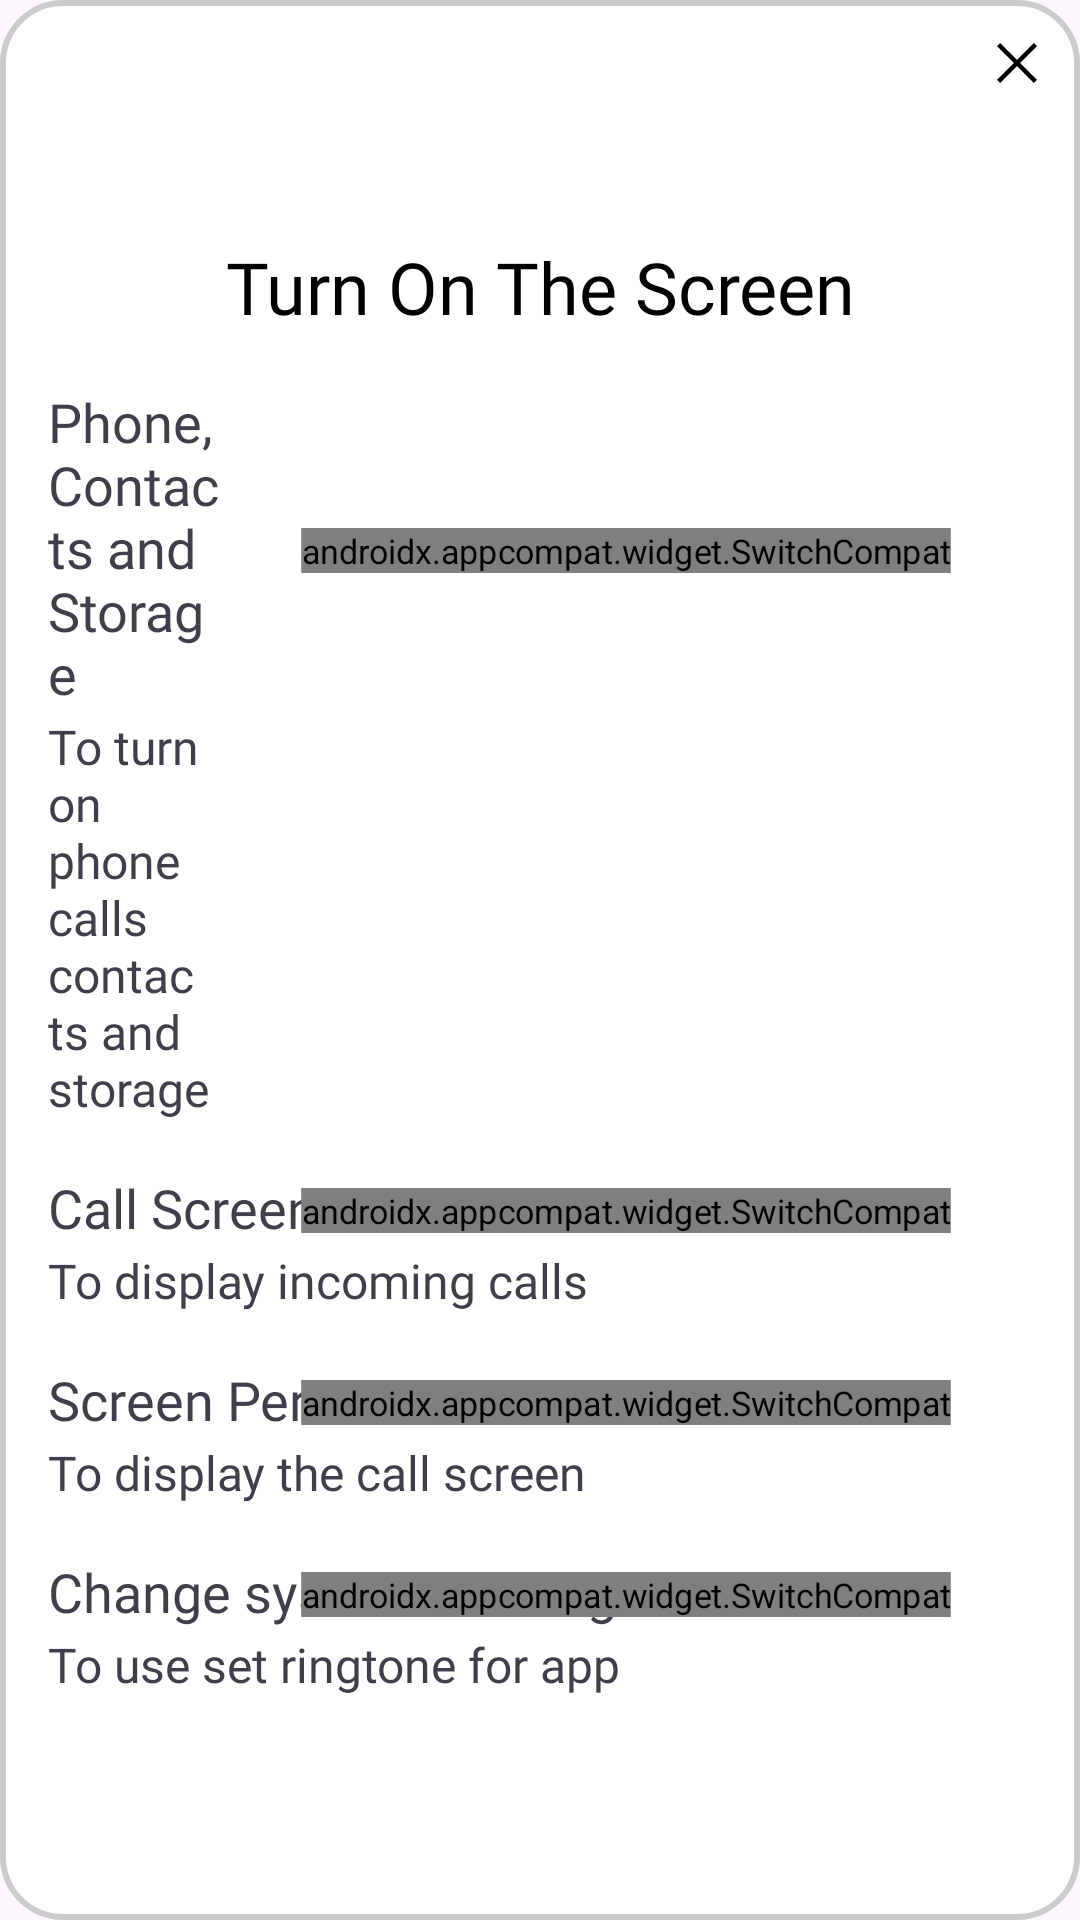

Screen size 1080px x 1920px. Icon name, then its box in pixels as (x1, y1, x2, y2):
close: (997, 43, 1037, 83)
